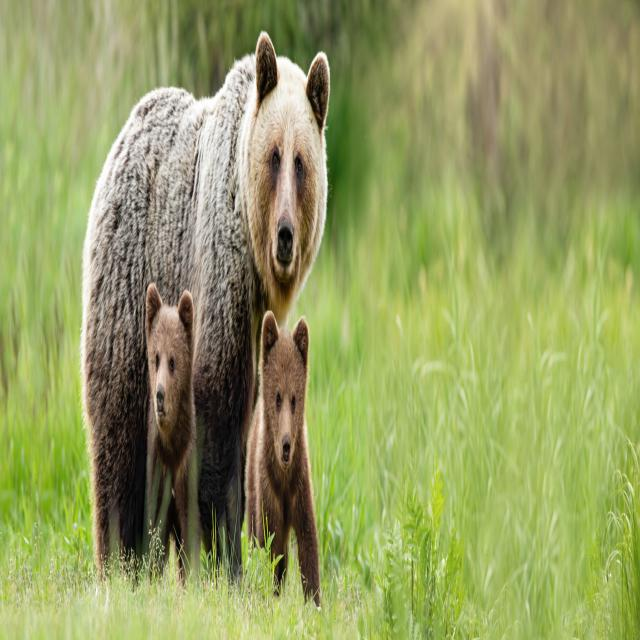bear: (80, 32, 330, 572), (246, 313, 320, 605), (143, 284, 198, 578)
